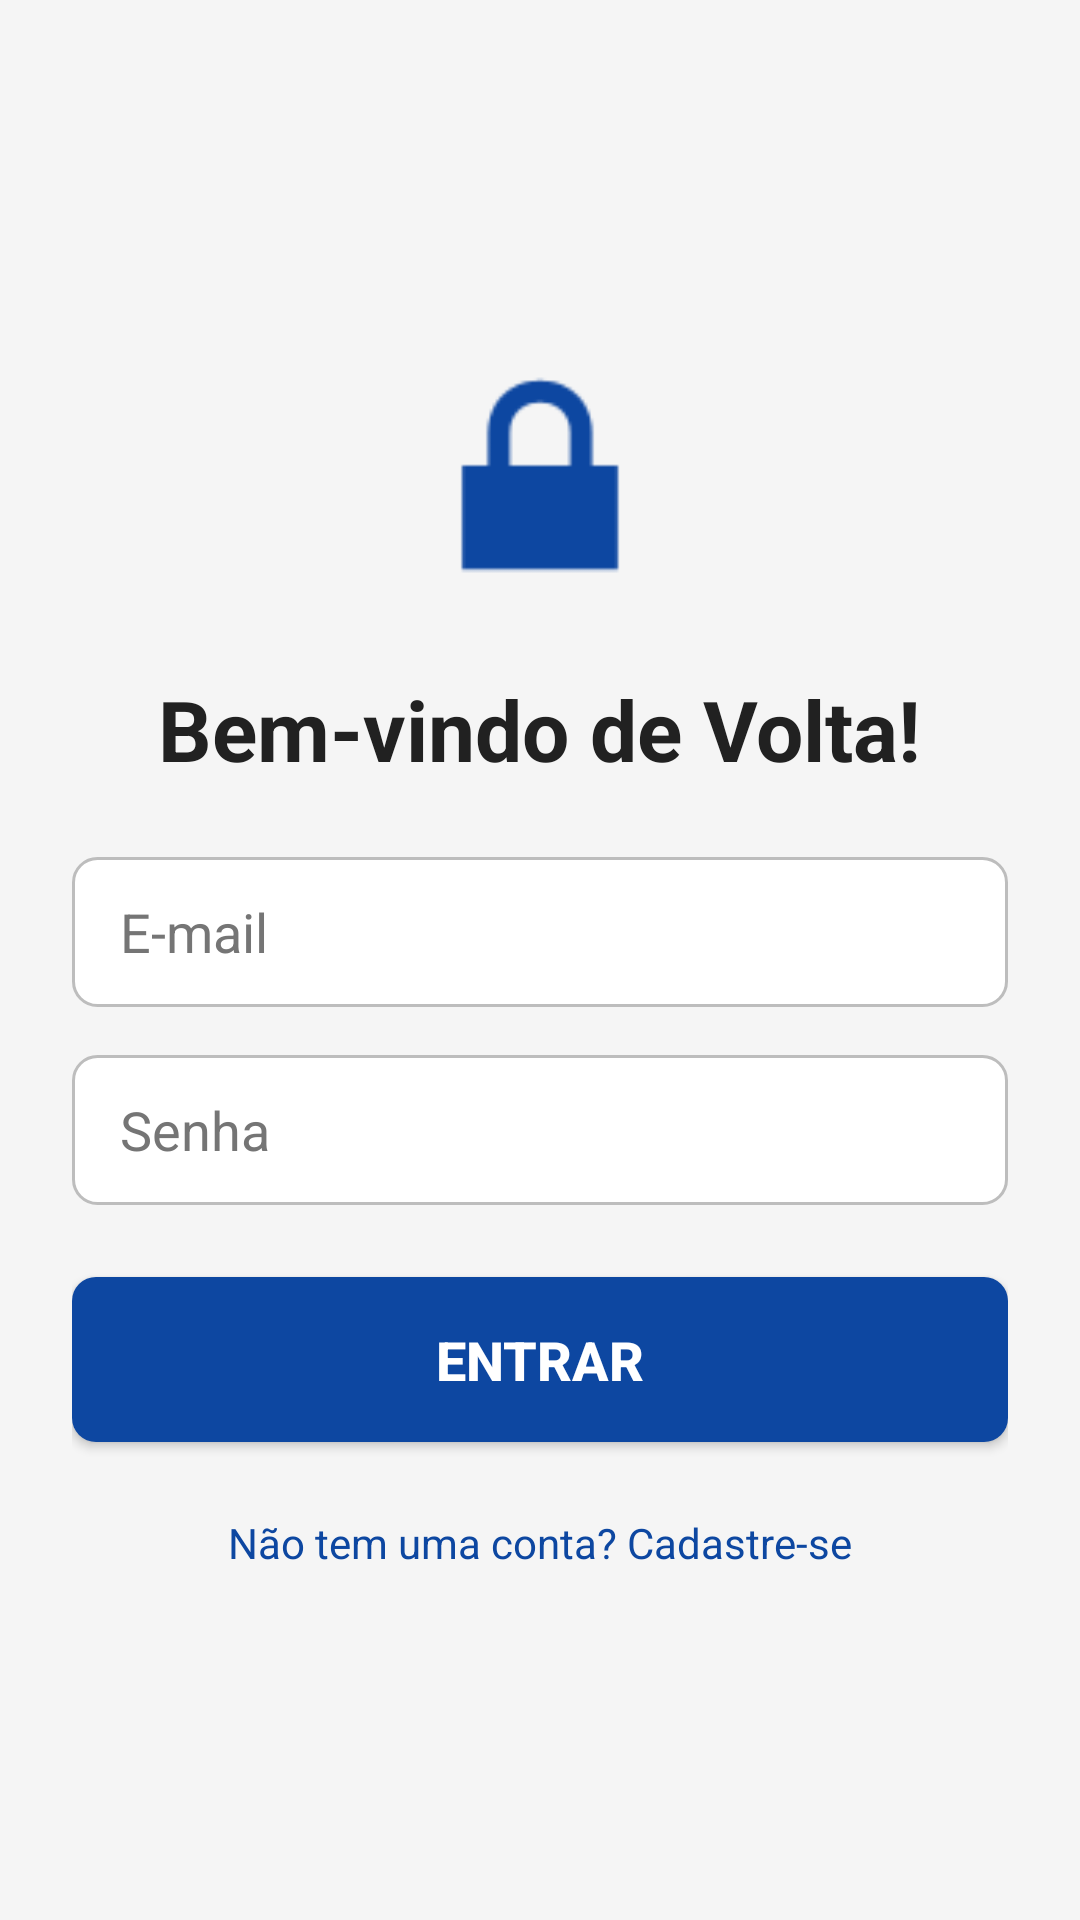

Named icons in this screenshot (1080 x 1920) and their bounding boxes, detection(x1, y1, x2, y2):
Ícone de Login: detection(461, 378, 619, 572)
